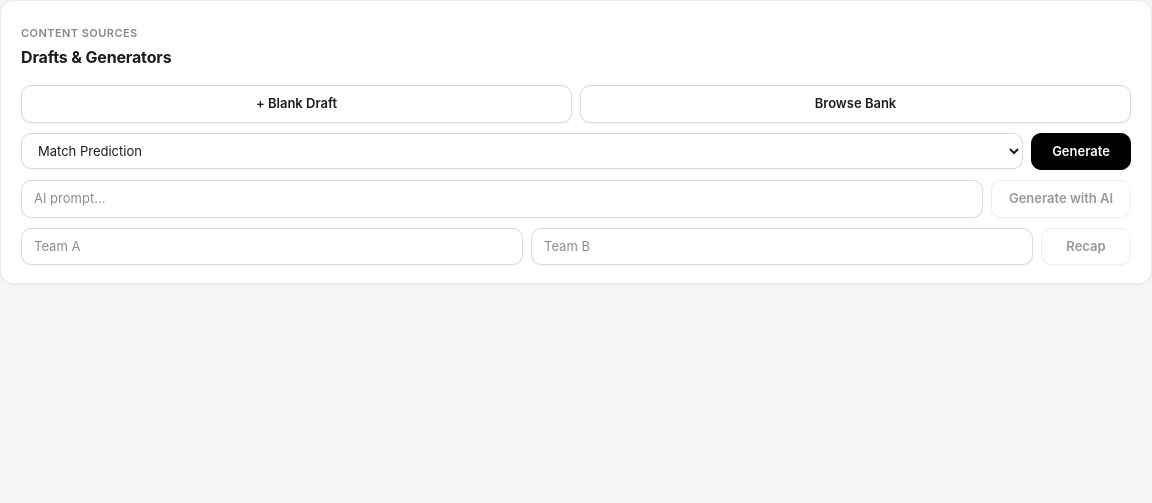
SourceBar › dims items used within the 14-day freshness window, not older ones
Step 1. Click the button "Browse Bank" → [856, 104], box x1=580 y1=85 x2=1131 y2=122
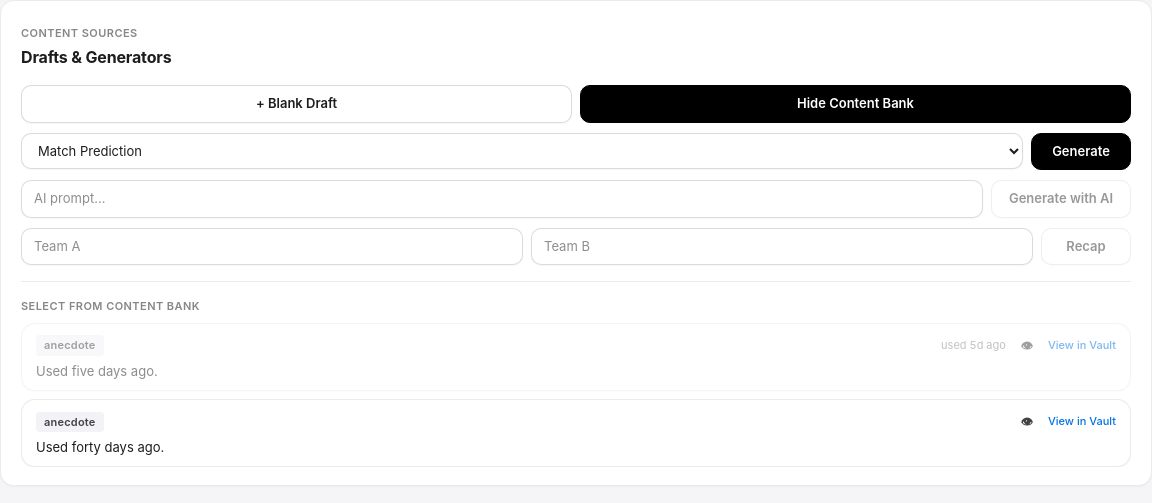
Check: the text "used 5d ago" is shown, box x1=941 y1=337 x2=1006 y2=354
